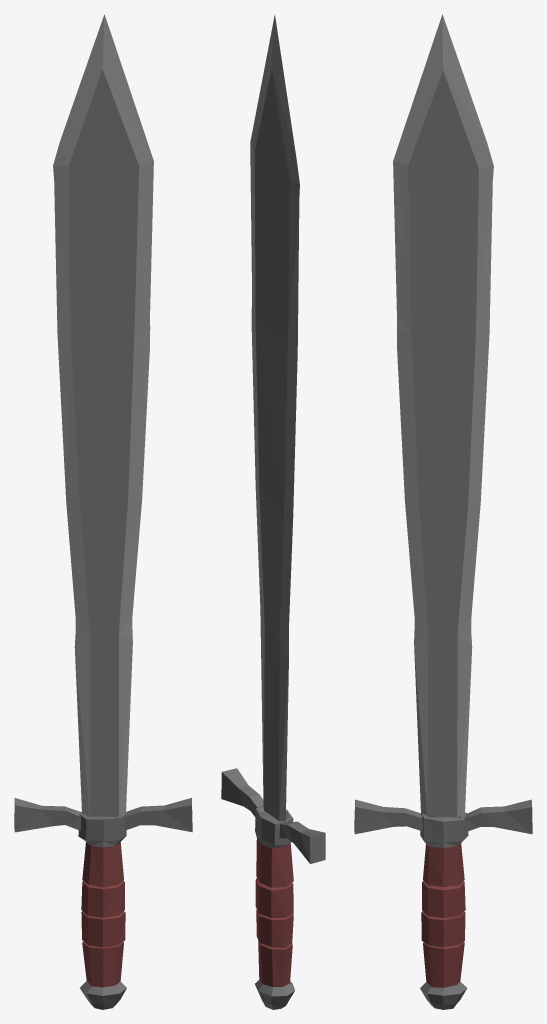
The model's file is SFM_ARP_Long_Sword_002.fbx.
3 renders of one model, left to right at view 1: azimuth 90°, elevation 25°; view 2: azimuth 210°, elevation 25°; view 3: azimuth 270°, elevation 25°, orthographic.
Parts seen in each view (by area): view 1: SFM_ARP_Long_Sword_002; view 2: SFM_ARP_Long_Sword_002; view 3: SFM_ARP_Long_Sword_002.
Boxes of the visible parts, box(x1,y1,x2,y2) form: SFM_ARP_Long_Sword_002: box(14, 14, 192, 1009); SFM_ARP_Long_Sword_002: box(221, 14, 325, 1009); SFM_ARP_Long_Sword_002: box(354, 14, 532, 1009).
Bounding box in the file's own units: 4.34 × 124 × 20.16.
